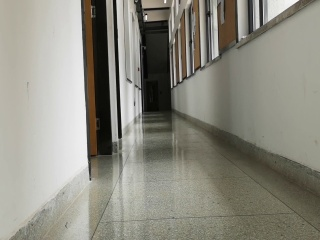room: (80, 1, 115, 159)
